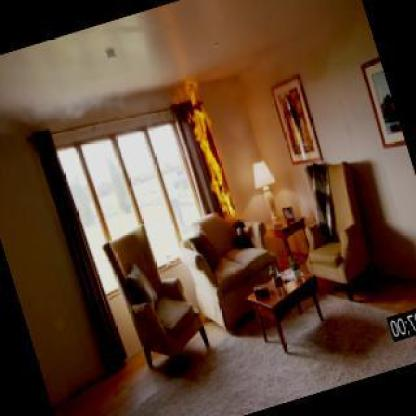Fire: (174, 65, 241, 221)
